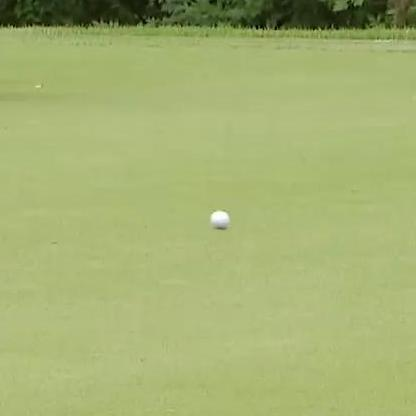golfball: (206, 206, 229, 229)
